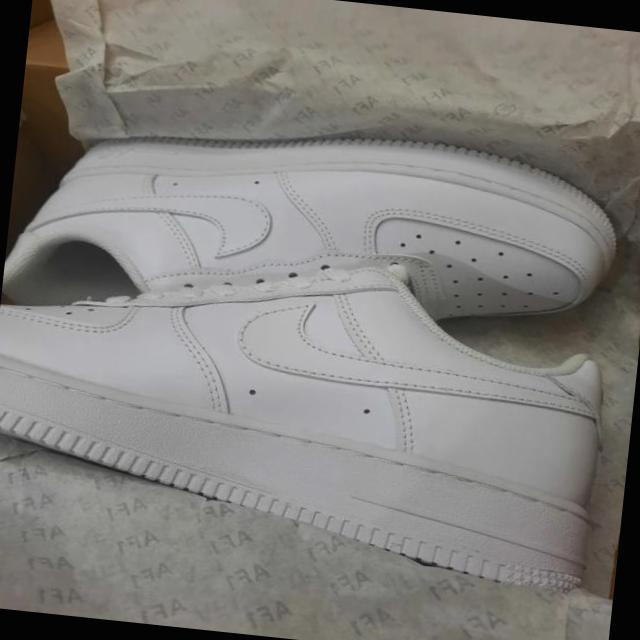nike_original_airforce: (0, 219, 639, 599), (1, 97, 632, 366)
